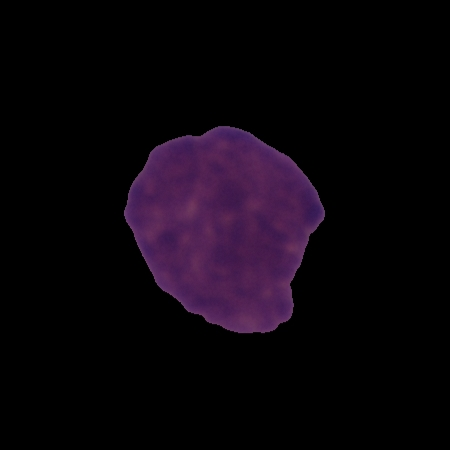HEM: (120, 122, 327, 337)
